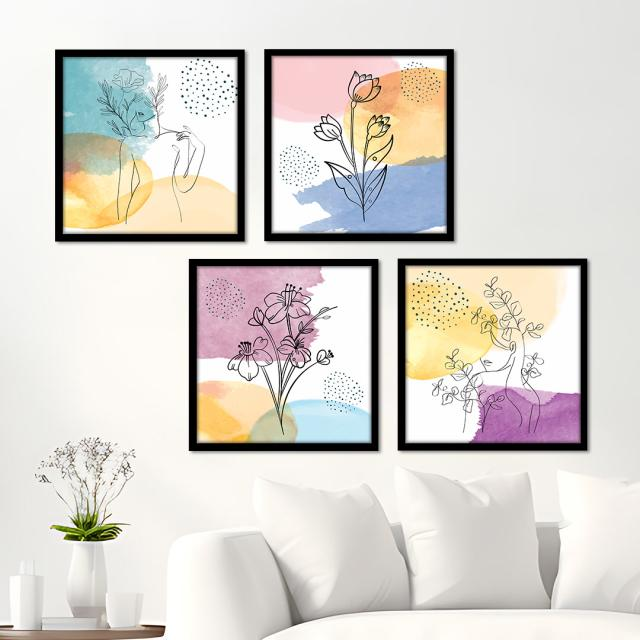painting: (54, 49, 245, 243), (396, 259, 587, 453), (188, 260, 379, 454), (264, 49, 455, 243)
